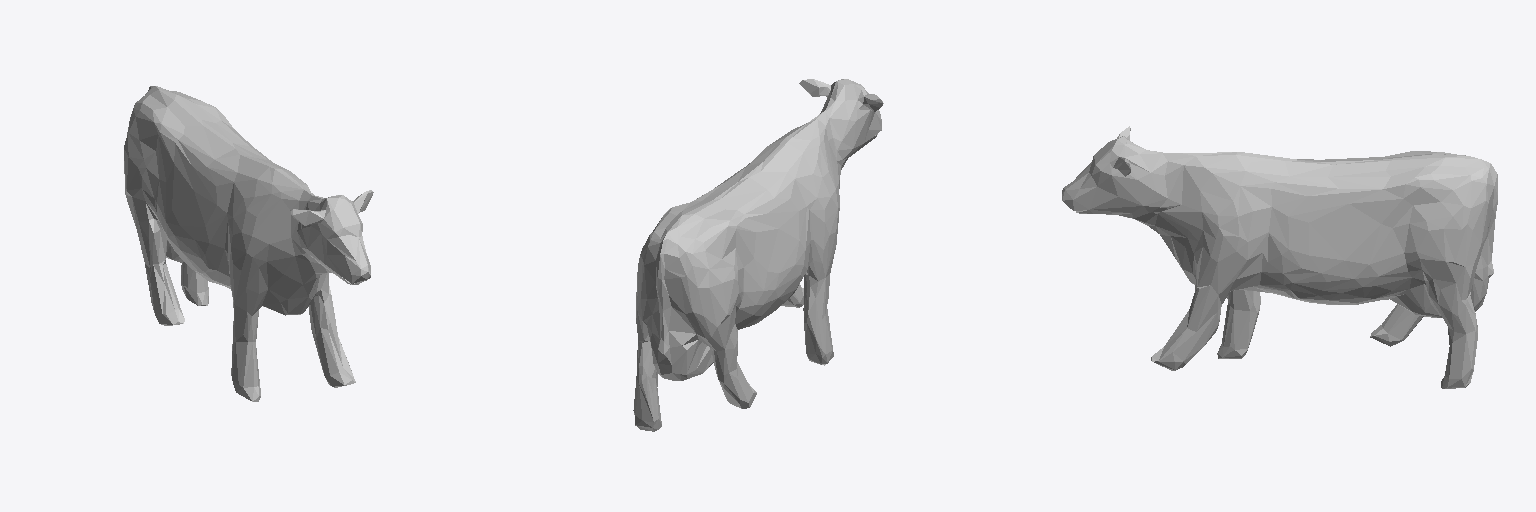
File: step3.obj
The picture shows the model from 3 angles: view 1: azimuth 30°, elevation 25°; view 2: azimuth 150°, elevation 25°; view 3: azimuth 270°, elevation 25°; orthographic projection.
Visible parts, largest first — view 1: Cow:cow; view 2: Cow:cow; view 3: Cow:cow.
Boxes of the visible parts, x1,y1,x2,y2 form: Cow:cow: [124, 86, 373, 401]; Cow:cow: [633, 79, 883, 431]; Cow:cow: [1062, 126, 1497, 388].
Size of the model in its own units: 4.58 by 11.61 by 19.59.